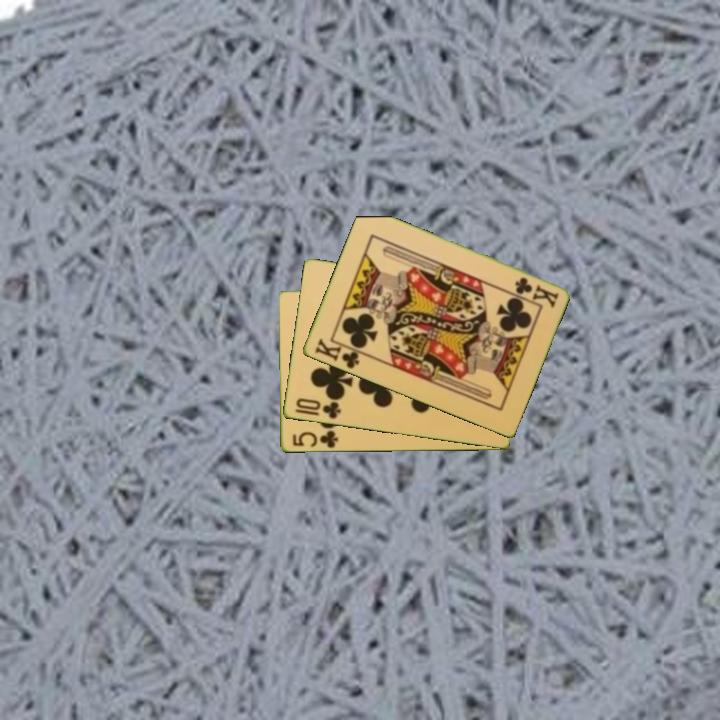10c: (292, 395, 344, 422)
5c: (289, 425, 340, 450)
Kc: (311, 335, 367, 372), (511, 274, 561, 310)
